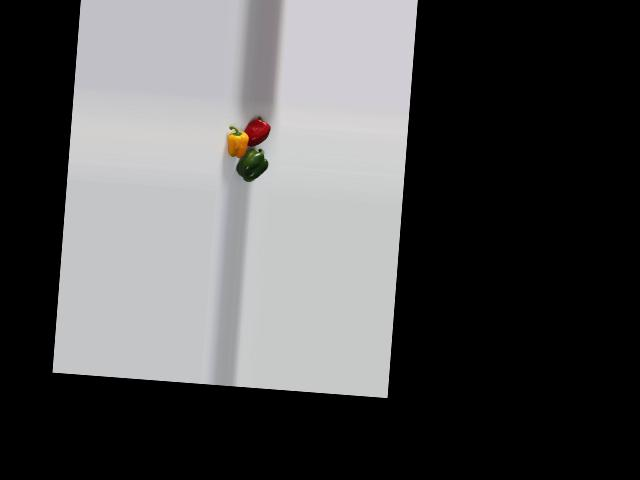bell_pepper: (223, 125, 254, 159)
